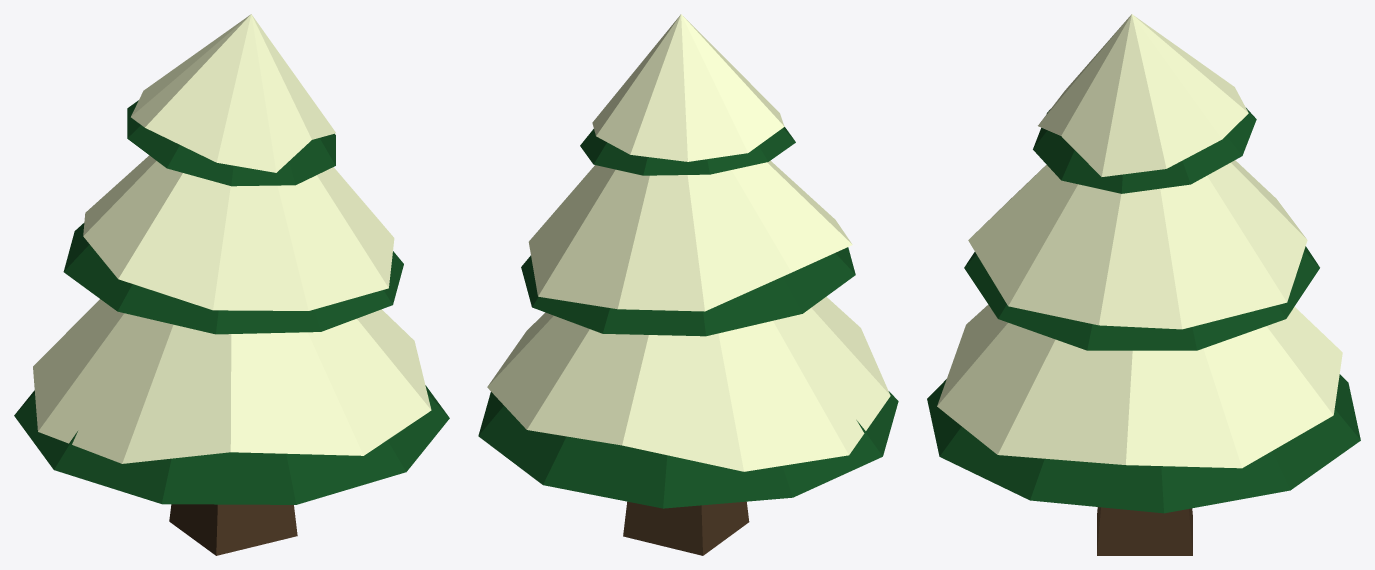
The model's file is Tree 1.fbx.
3 renders of one model, left to right at view 1: azimuth 30°, elevation 25°; view 2: azimuth 150°, elevation 25°; view 3: azimuth 270°, elevation 25°, orthographic. The views are drawn at different scales.
Parts seen in each view (by area): view 1: Cube.008, Cube.009, Cube.010, Cube.004, Cube.005, Cube.006, Cube.001; view 2: Cube.008, Cube.009, Cube.004, Cube.010, Cube.005, Cube.001, Cube.006; view 3: Cube.008, Cube.009, Cube.010, Cube.004, Cube.005, Cube.006, Cube.001.
Boxes of the visible parts, bbox=[...] form: Cube.008: bbox=[33, 299, 431, 463]; Cube.009: bbox=[83, 155, 394, 310]; Cube.010: bbox=[131, 14, 335, 172]; Cube.004: bbox=[14, 385, 449, 504]; Cube.005: bbox=[63, 223, 403, 334]; Cube.006: bbox=[127, 100, 335, 186]; Cube.001: bbox=[169, 504, 297, 555]; Cube.008: bbox=[487, 296, 890, 471]; Cube.009: bbox=[528, 160, 852, 311]; Cube.004: bbox=[478, 391, 898, 508]; Cube.010: bbox=[592, 14, 784, 161]; Cube.005: bbox=[521, 247, 855, 336]; Cube.001: bbox=[623, 501, 749, 555]; Cube.006: bbox=[580, 127, 795, 175]; Cube.008: bbox=[937, 304, 1342, 468]; Cube.009: bbox=[968, 160, 1307, 329]; Cube.010: bbox=[1038, 14, 1248, 176]; Cube.004: bbox=[927, 374, 1360, 513]; Cube.005: bbox=[964, 246, 1319, 350]; Cube.006: bbox=[1033, 108, 1256, 193]; Cube.001: bbox=[1097, 507, 1192, 555].
Bounding box in the file's own units: 923 × 1213 × 904.
